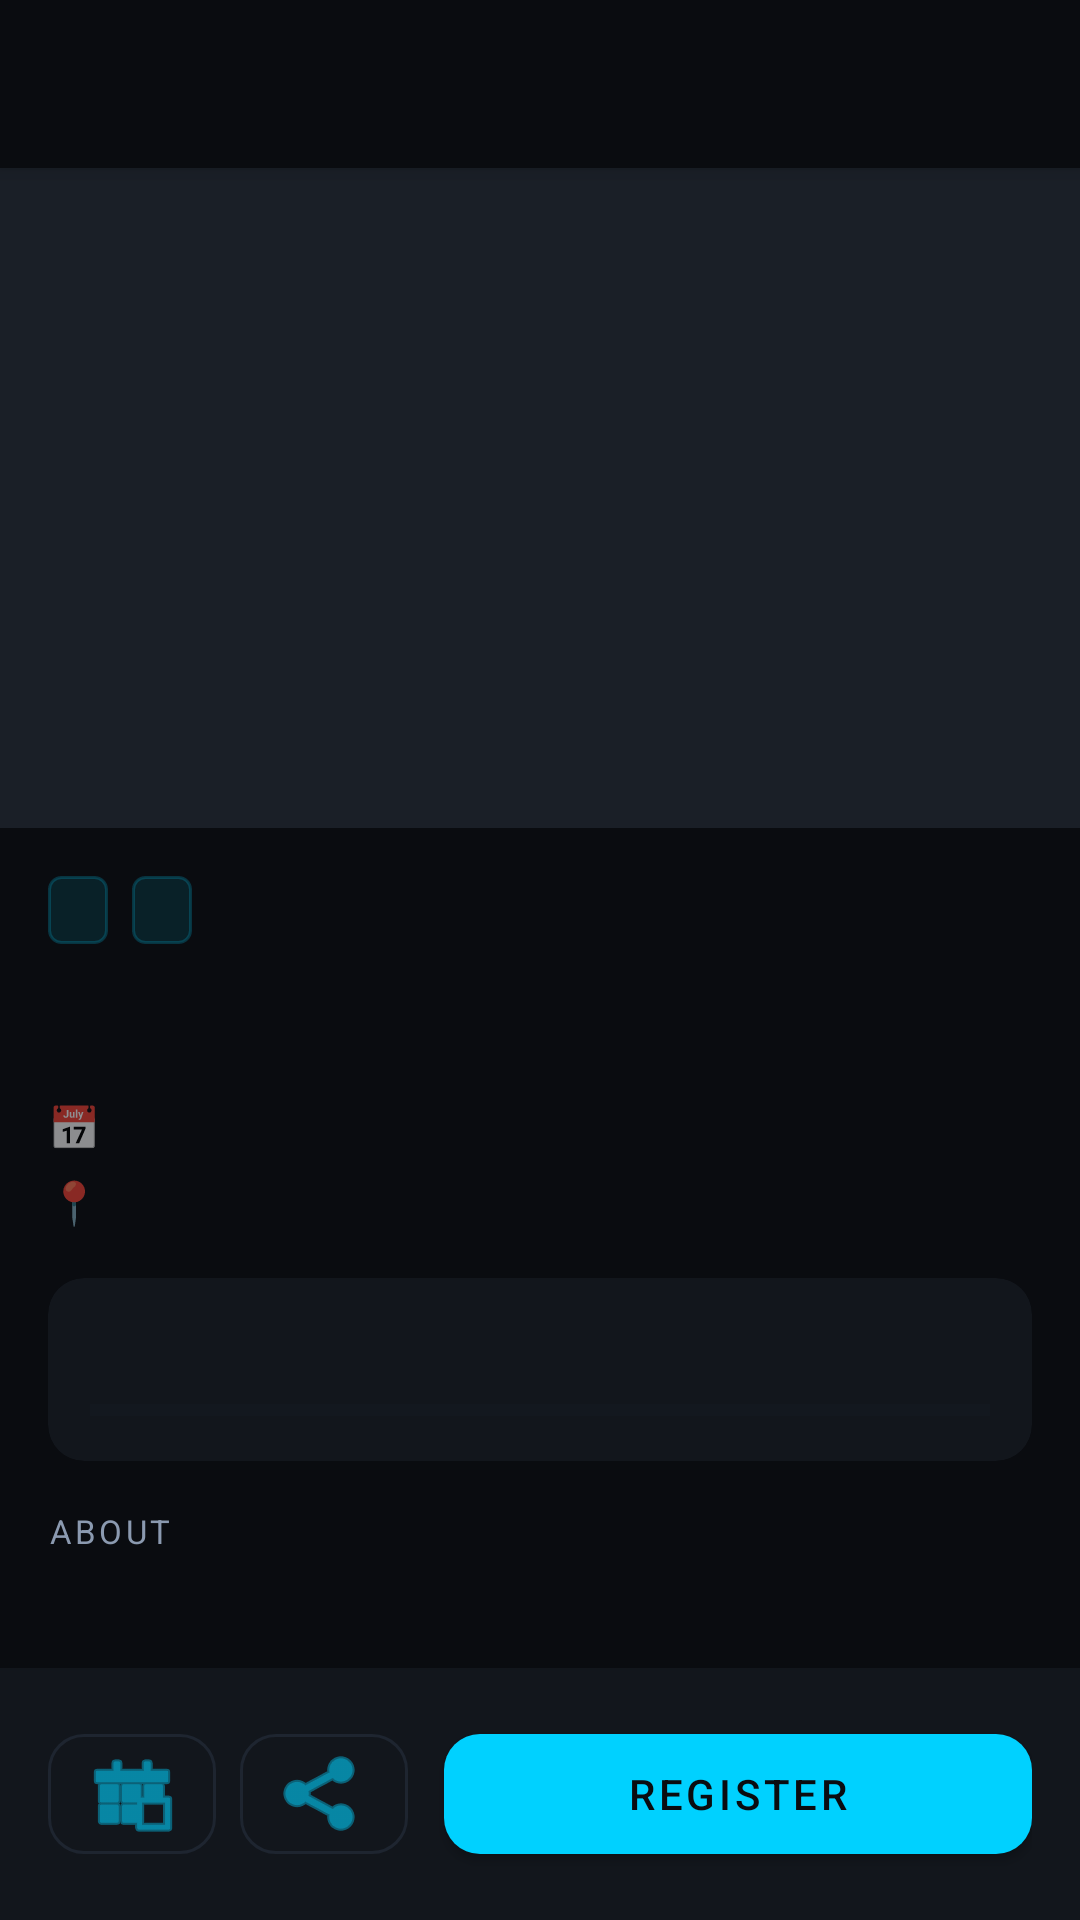

Screen size 1080*1920. Icon name, then its center in pixels as (x,y):
Add to calendar: (133,1795)
Share event: (319,1793)
